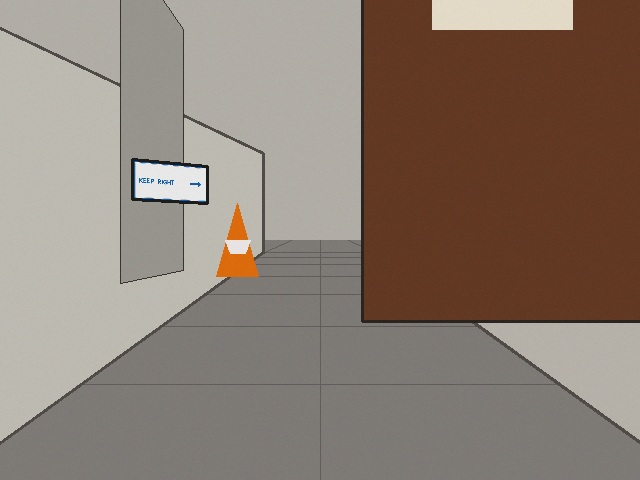directional_sign: (132, 159, 207, 203)
door: (362, 0, 639, 321)
obstacle: (216, 203, 258, 276)
